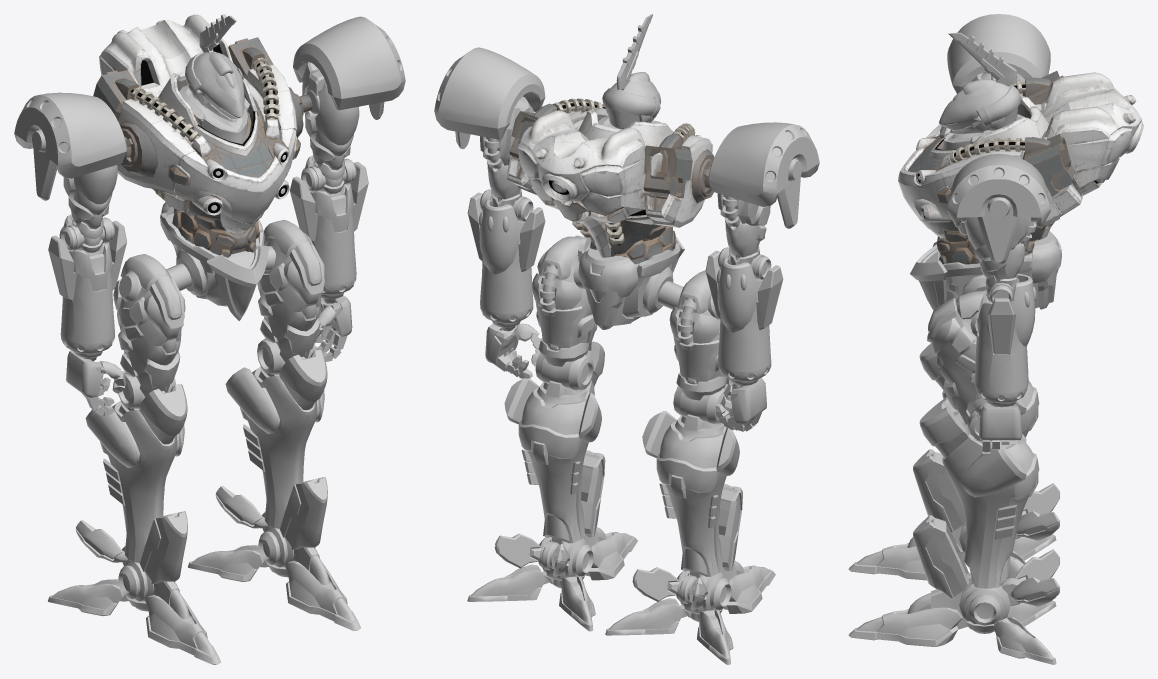
The model's file is Prototype.obj.
3 views of the same model, side by side, from view 1: azimuth 30°, elevation 25°; view 2: azimuth 150°, elevation 25°; view 3: azimuth 270°, elevation 25° (orthographic). The views are drawn at different scales.
Parts seen in each view (by area): view 1: RightLeg, LeftLeg, Body, RightArm, LeftArm, Hatch, Hip, Head, LeftLeg2, RightLeg2, RightArm2, LeftArm2; view 2: LeftLeg, RightLeg, Body, RightArm, LeftArm, Hip, Head, LeftLeg2, RightLeg2, LeftArm2, RightArm2; view 3: LeftLeg, Body, LeftArm, RightLeg, Head, RightArm, Hip, LeftLeg2, Hatch, LeftArm2.
Boxes of the visible parts, x1,y1,x2,y2 form: RightLeg: (48, 254, 221, 664); LeftLeg: (188, 220, 360, 630); Body: (93, 14, 312, 257); RightArm: (14, 92, 126, 416); LeftArm: (293, 16, 405, 361); Hatch: (172, 110, 296, 224); Hip: (160, 202, 275, 320); Head: (179, 14, 249, 142); LeftLeg2: (225, 367, 324, 527); RightLeg2: (85, 405, 184, 561); RightArm2: (48, 221, 126, 301); LeftArm2: (290, 162, 368, 242); LeftLeg: (467, 235, 637, 631); RightLeg: (605, 270, 775, 664); Body: (507, 98, 714, 263); RightArm: (708, 122, 819, 431); LeftArm: (434, 47, 545, 378); Hip: (573, 236, 684, 329); Head: (598, 14, 660, 129); LeftLeg2: (504, 378, 601, 541); RightLeg2: (642, 411, 739, 574); LeftArm2: (467, 192, 545, 271); RightArm2: (705, 250, 783, 330); LeftLeg: (848, 291, 1059, 664); Body: (916, 71, 1143, 264); LeftArm: (947, 153, 1050, 455); RightLeg: (848, 241, 1059, 598); Head: (939, 32, 1025, 149); RightArm: (947, 14, 1050, 93); Hip: (910, 231, 1061, 309); LeftLeg2: (961, 433, 1026, 588); Hatch: (898, 124, 955, 220); LeftArm2: (987, 298, 1016, 354).
Bounding box in the file's own units: 137 × 222 × 104.
